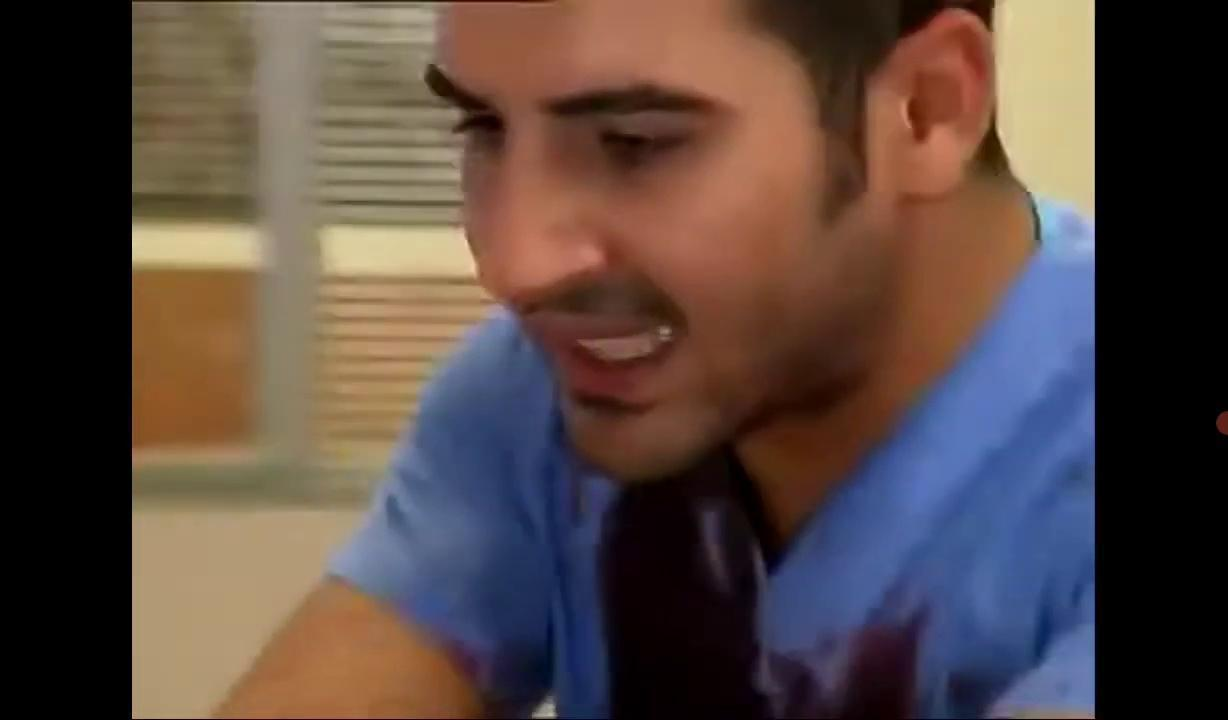Fire: (601, 453, 926, 719)
